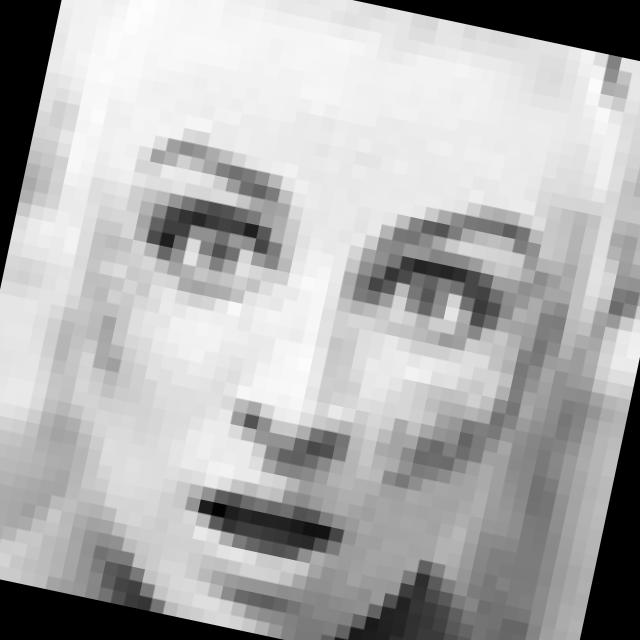surprise: (62, 116, 561, 626)
